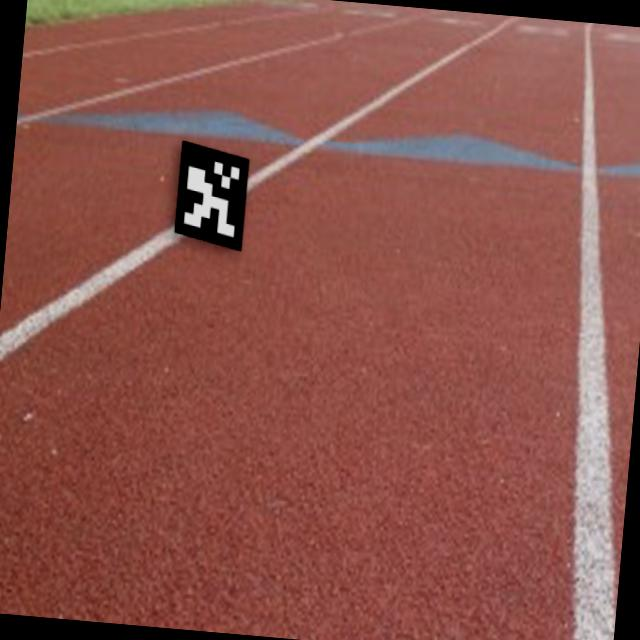marker: (150, 124, 261, 266)
